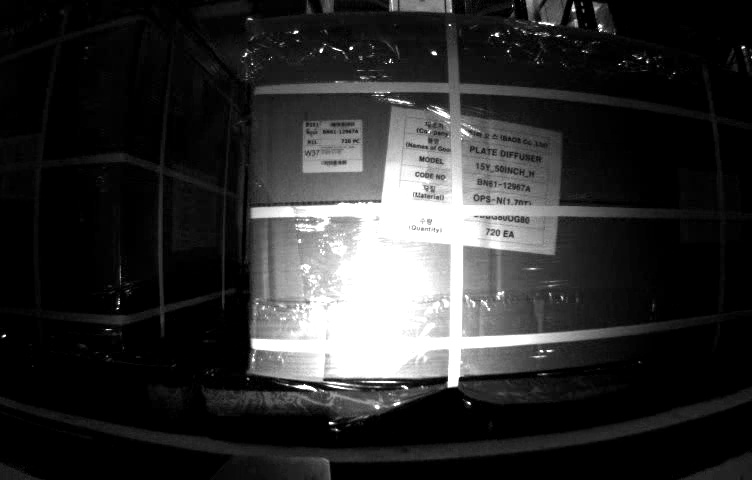True Barcode: (301, 119, 364, 173)
